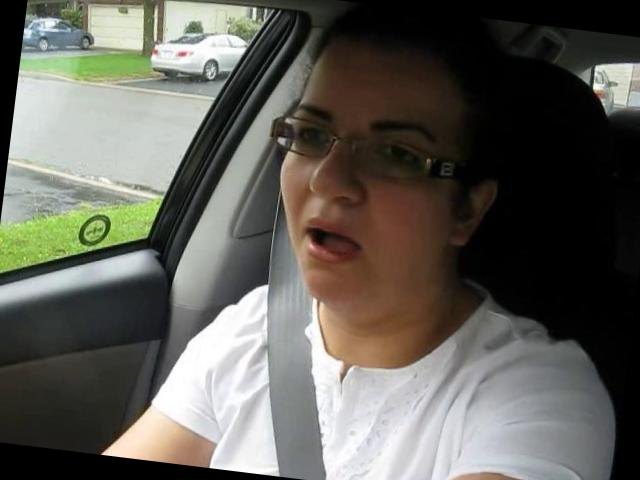eye_open: (368, 137, 428, 174), (288, 118, 336, 156)
face: (257, 70, 463, 334)
mouth_open: (294, 213, 371, 268)
